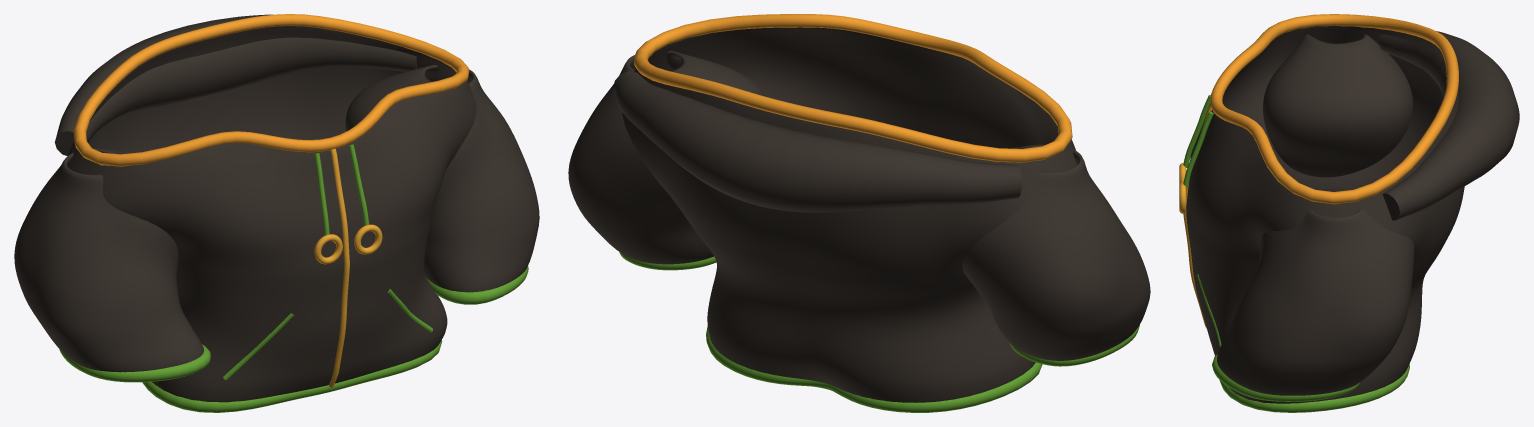
The model's file is sudadera.glb.
The picture shows the model from 3 angles, left to right: view 1: azimuth 30°, elevation 25°; view 2: azimuth 150°, elevation 25°; view 3: azimuth 270°, elevation 25°; orthographic projection. The views are drawn at different scales.
Parts seen in each view (by area): view 1: accesorio_sudadera; view 2: accesorio_sudadera; view 3: accesorio_sudadera.
Boxes of the visible parts, x1,y1,x2,y2 form: accesorio_sudadera: [14, 14, 539, 412]; accesorio_sudadera: [568, 14, 1150, 412]; accesorio_sudadera: [1179, 14, 1519, 412].
Size of the model in its own units: 1.25 by 0.6891 by 0.7672.
